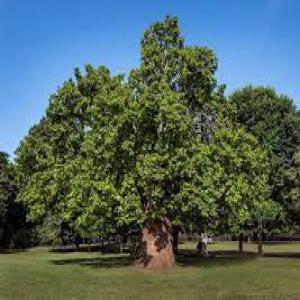Tree: (10, 61, 270, 271)
